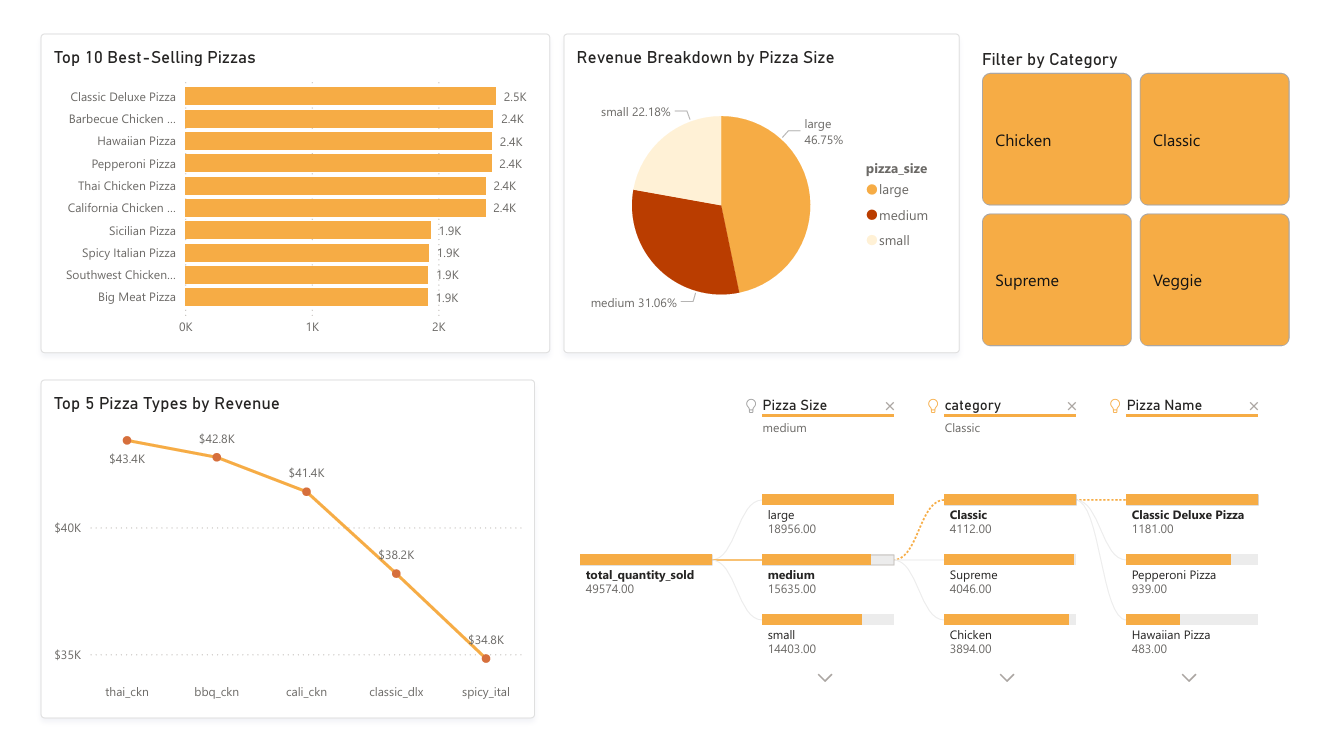

The page's visual inventory and layout, read from the dashboard file:
{"tool":"powerbi","page":{"name":"Pizza Sales Insights","canvas":[1280,720],"ordinal":2},"visuals":[{"type":"advancedSlicerVisual","title":"Filter by Category","fields":{"Values":["pizza_types.category"]},"box":[950.6,32.1,315.6,300.5],"z":0},{"type":"barChart","title":"Top 10 Best-Selling Pizzas","fields":{"Category":["pizza_types.name"],"Y":["order_details.total_quantity_sold"]},"box":[24.6,17,504.6,315.6],"z":1000},{"type":"pieChart","title":"Revenue Breakdown by Pizza Size","fields":{"Category":["pizzas.pizza_size"],"Y":["order_details.total_revenue"]},"box":[542.4,17,391.2,315.6],"z":2000},{"type":"lineChart","title":"Top 5 Pizza Types by Revenue","fields":{"Category":["pizza_types.pizza_type_id"],"Y":["order_details.total_revenue"]},"box":[24.6,359.1,489.5,334.5],"z":3000},{"type":"decompositionTreeVisual","fields":{"Analyze":["order_details.total_quantity_sold"],"ExplainBy":["pizzas.pizza_size","pizza_types.category","pizza_types.name"]},"box":[529.1,359.1,737,334.5],"z":4000}]}

Visuals, with their boxes in screenshot pixels (x1, y1, x2, y2), scaled from the page's 1280x720 canvas onto the 1324x753 screenshot:
"Filter by Category" advancedSlicerVisual: <region>983, 34, 1310, 348</region>
"Top 10 Best-Selling Pizzas" barChart: <region>25, 18, 547, 348</region>
"Revenue Breakdown by Pizza Size" pieChart: <region>561, 18, 966, 348</region>
"Top 5 Pizza Types by Revenue" lineChart: <region>25, 376, 532, 725</region>
decompositionTreeVisual - order_details.total_quantity_sold x pizzas.pizza_size: <region>547, 376, 1310, 725</region>
